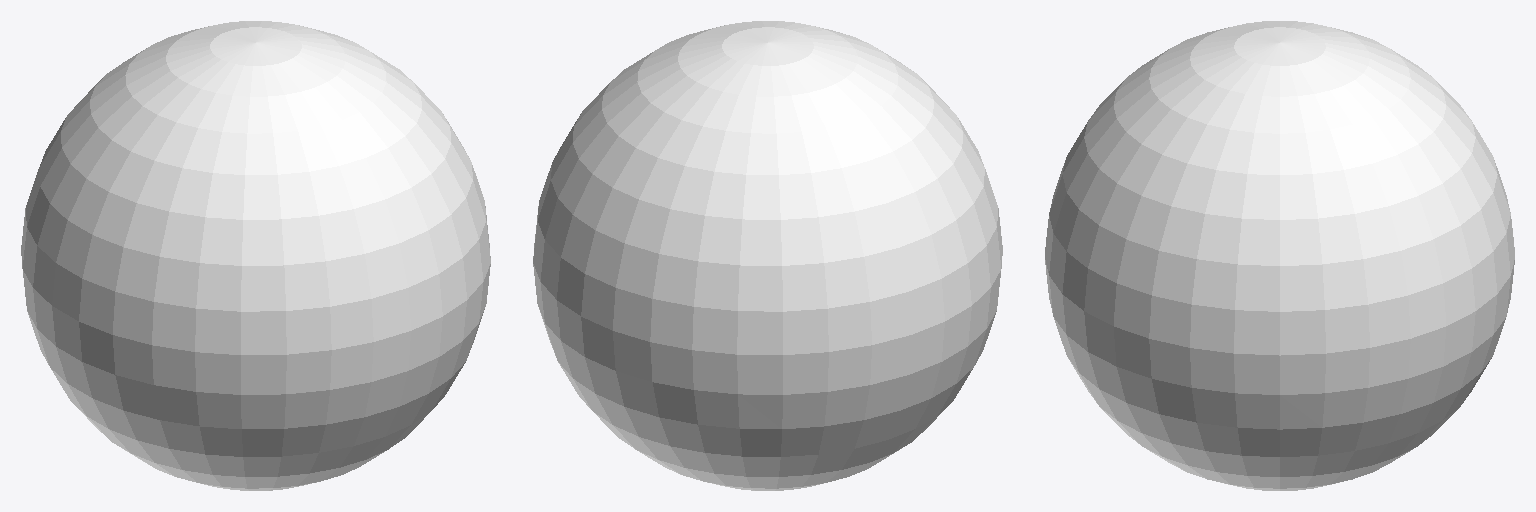
Rendered from spirit_flame.obj.
3 views of the same model, side by side, from view 1: azimuth 30°, elevation 25°; view 2: azimuth 150°, elevation 25°; view 3: azimuth 270°, elevation 25° (orthographic).
Visible parts, largest first — view 1: Main; view 2: Main; view 3: Main.
Boxes of the visible parts, box(x1,y1,x2,y2) form: Main: box(21, 21, 490, 490); Main: box(533, 21, 1002, 490); Main: box(1045, 21, 1514, 490).
Bounding box in the file's own units: 0.4993 × 0.4993 × 0.4993.